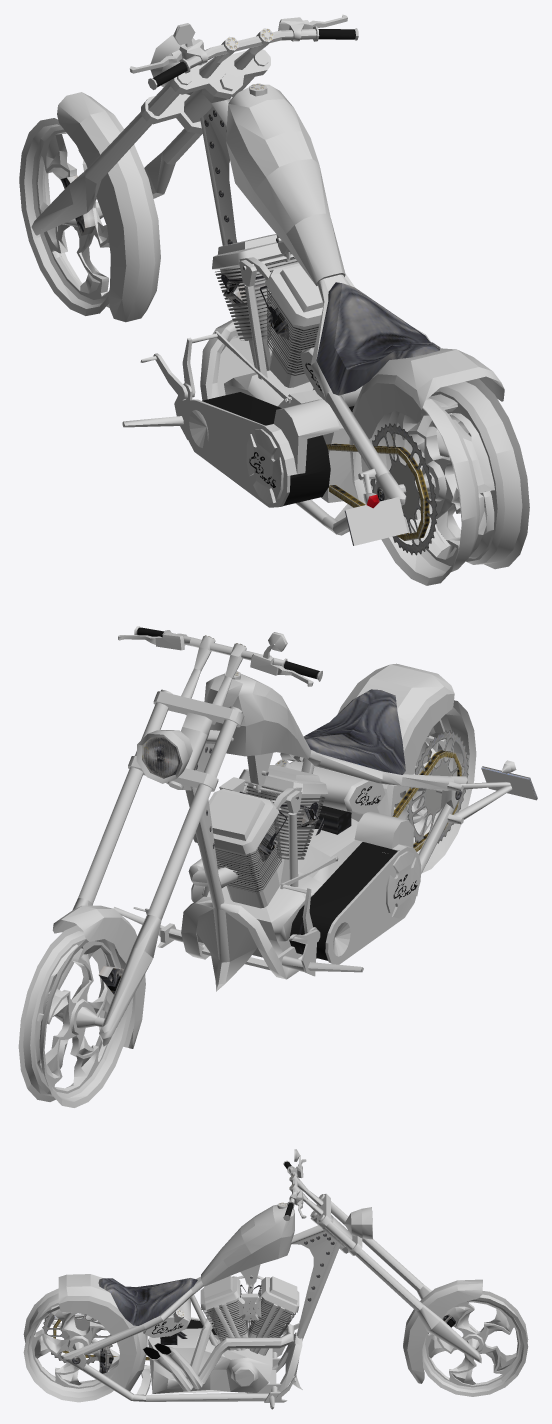
File: vp_wcc_eldiablo_r_03.glb
3 views of the same model, one above another, from view 1: azimuth 30°, elevation 25°; view 2: azimuth 150°, elevation 25°; view 3: azimuth 270°, elevation 25° (orthographic). The views are drawn at different scales.
Parts seen in each view (by area): view 1: frame_h.mesh, engine_h.mesh, whl_4_rim_0, fender_h.mesh, fork_lower_h.mesh, whl_2_rim_0, handlebars_h.mesh, Sprocket.mesh, pPlane3.mesh; view 2: frame_h.mesh, engine_h.mesh, whl_2_rim_0, fork_lower_h.mesh, handlebars_h.mesh, fender_h.mesh, whl_4_rim_0, Sprocket.mesh, Exh_H.mesh; view 3: frame_h.mesh, engine_h.mesh, whl_2_rim_0, whl_4_rim_0, fork_lower_h.mesh, Exh_H.mesh, fender_h.mesh, handlebars_h.mesh, Sprocket.mesh.
Part boxes in pixels (bbox=[...]): frame_h.mesh: bbox=[122, 83, 504, 545]; engine_h.mesh: bbox=[140, 234, 429, 540]; whl_4_rim_0: bbox=[361, 378, 529, 585]; fender_h.mesh: bbox=[42, 92, 160, 322]; fork_lower_h.mesh: bbox=[31, 49, 270, 235]; whl_2_rim_0: bbox=[19, 118, 109, 315]; handlebars_h.mesh: bbox=[129, 14, 358, 95]; Sprocket.mesh: bbox=[370, 423, 437, 555]; pPlane3.mesh: bbox=[345, 497, 407, 545]; frame_h.mesh: bbox=[113, 663, 537, 991]; engine_h.mesh: bbox=[133, 750, 462, 964]; whl_2_rim_0: bbox=[18, 925, 133, 1107]; fork_lower_h.mesh: bbox=[57, 689, 244, 1046]; handlebars_h.mesh: bbox=[118, 626, 322, 783]; fender_h.mesh: bbox=[52, 905, 145, 1048]; whl_4_rim_0: bbox=[394, 700, 476, 872]; Sprocket.mesh: bbox=[407, 730, 468, 843]; Exh_H.mesh: bbox=[188, 858, 239, 888]; frame_h.mesh: bbox=[47, 1202, 352, 1409]; engine_h.mesh: bbox=[52, 1275, 299, 1399]; whl_2_rim_0: bbox=[422, 1290, 528, 1396]; whl_4_rim_0: bbox=[23, 1288, 119, 1402]; fork_lower_h.mesh: bbox=[310, 1194, 481, 1363]; Exh_H.mesh: bbox=[142, 1314, 294, 1391]; fender_h.mesh: bbox=[403, 1279, 482, 1383]; handlebars_h.mesh: bbox=[283, 1149, 372, 1239]; Sprocket.mesh: bbox=[42, 1313, 112, 1364].
Bounding box in the file's own units: 0.9187 × 1.35 × 2.72.
Materials: 18 (9 with a texture image).
